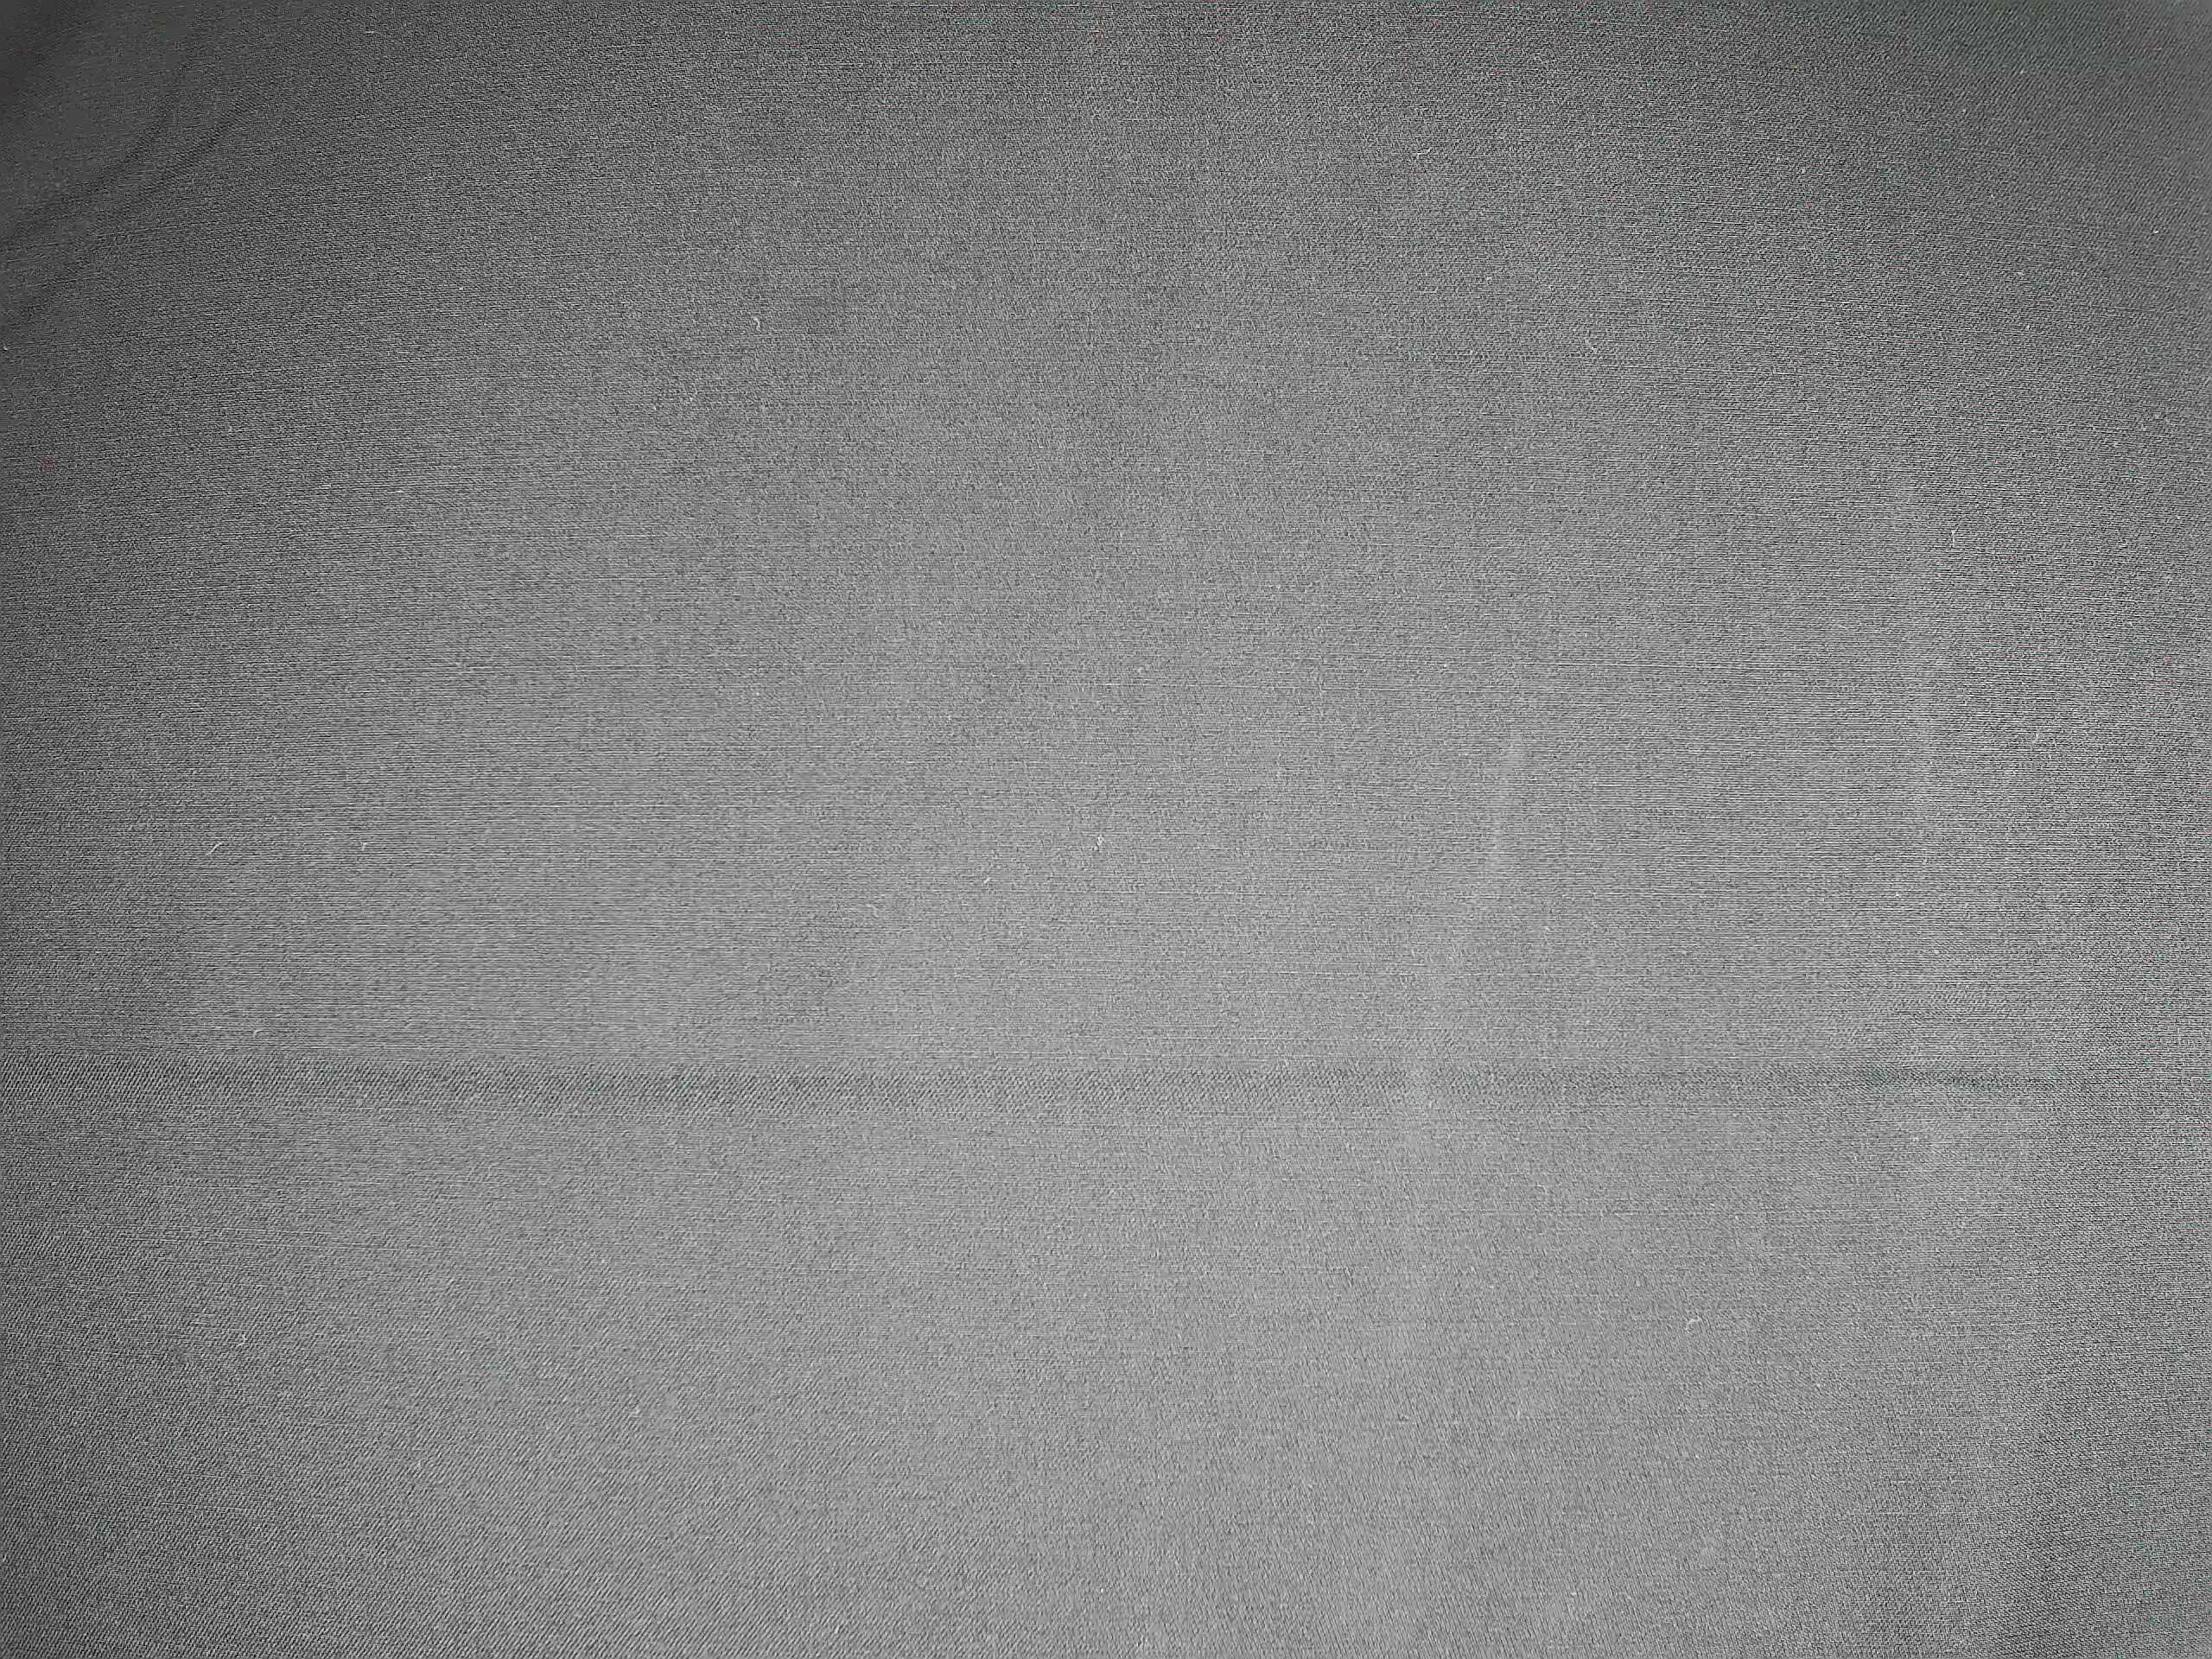stains: (1872, 472, 2104, 1306), (1418, 710, 1563, 1173), (779, 264, 863, 349)
